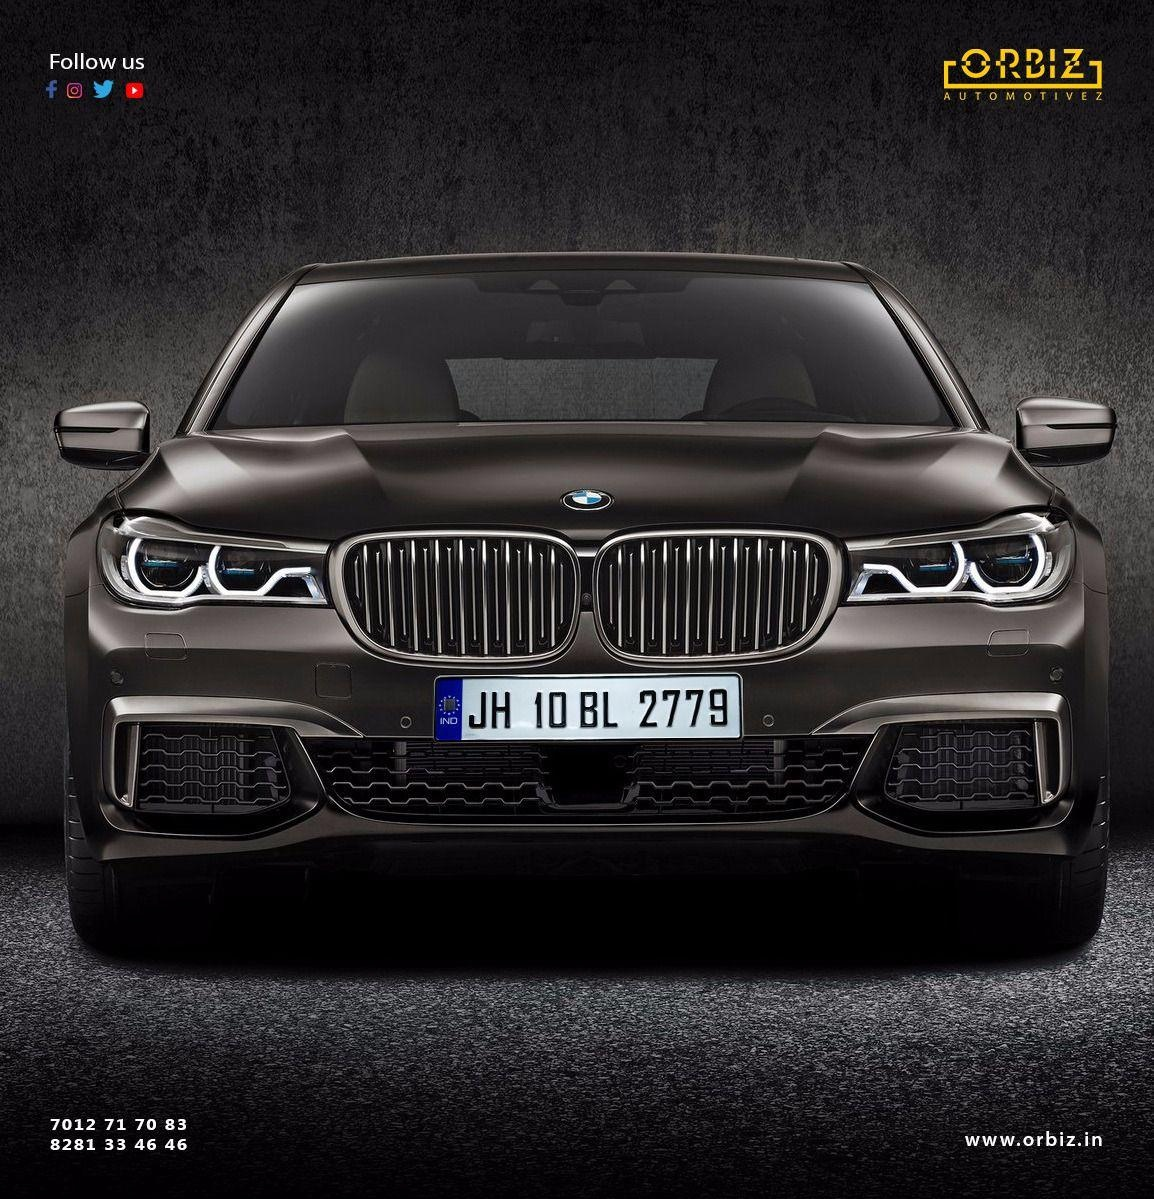number_plate: (466, 680, 740, 737)
